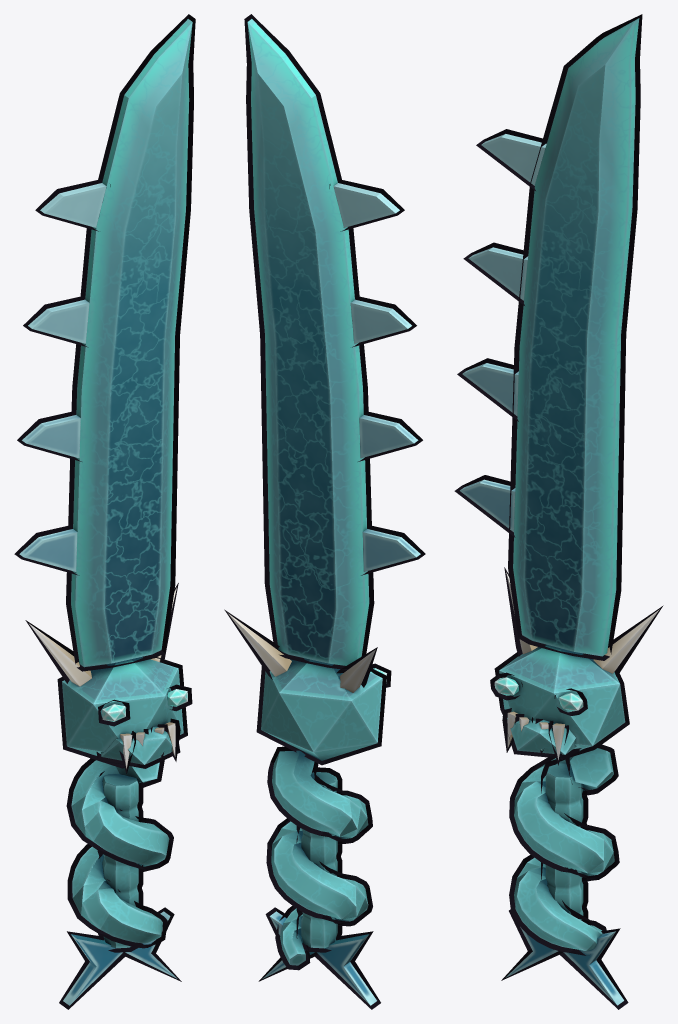
Rendered from LeviathanFang.fbx.
The picture shows the model from 3 angles, left to right: view 1: azimuth 30°, elevation 25°; view 2: azimuth 150°, elevation 25°; view 3: azimuth 330°, elevation 25°; orthographic projection. The views are drawn at different scales.
Visible parts, largest first — view 1: LeviathanFang, LeviathanFangOutline, LeviathanFangAtlantisGlow; view 2: LeviathanFang, LeviathanFangOutline; view 3: LeviathanFang, LeviathanFangOutline, LeviathanFangAtlantisGlow.
Boxes of the visible parts, bbox=[...] form: LeviathanFang: bbox=[19, 19, 192, 1005]; LeviathanFangOutline: bbox=[14, 14, 195, 1009]; LeviathanFangAtlantisGlow: bbox=[102, 689, 187, 721]; LeviathanFang: bbox=[228, 19, 420, 1005]; LeviathanFangOutline: bbox=[224, 14, 425, 1009]; LeviathanFang: bbox=[460, 18, 659, 1005]; LeviathanFangOutline: bbox=[454, 14, 663, 1009]; LeviathanFangAtlantisGlow: bbox=[494, 677, 583, 711].
Size of the model in its own units: 92.5 by 472 by 57.29.
Materials: 2 (1 with a texture image).
